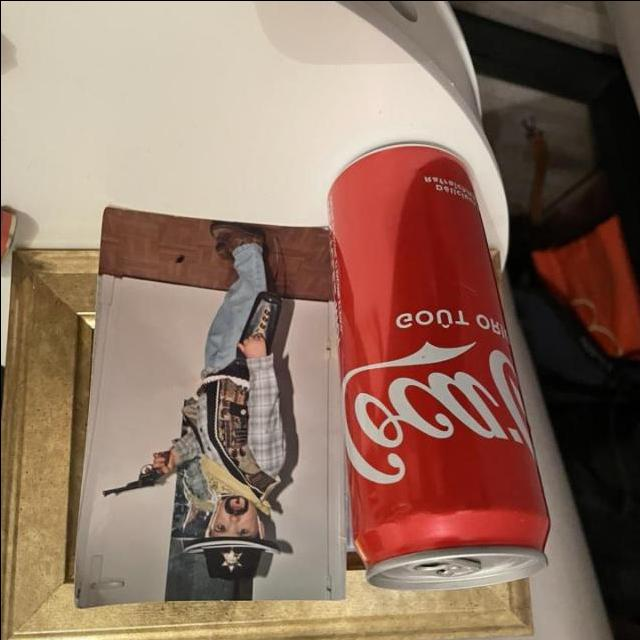can: (324, 128, 558, 610)
